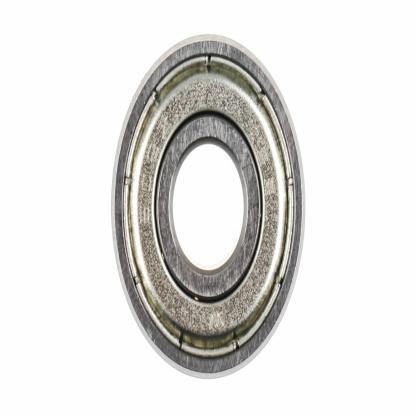FOD: (100, 32, 318, 379)
